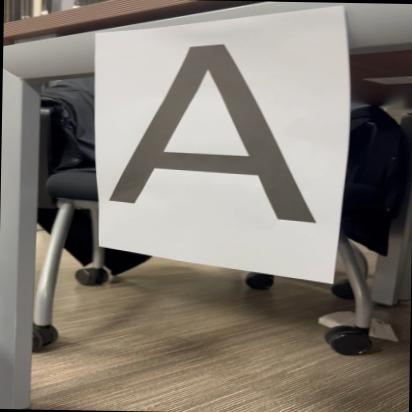seat: (98, 35, 334, 231)
